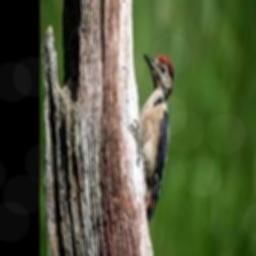Woodpecker: (138, 53, 173, 223)
